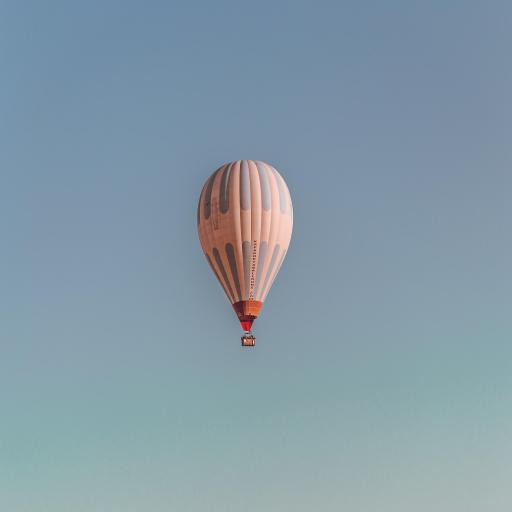hot air ballon: (196, 157, 296, 348)
